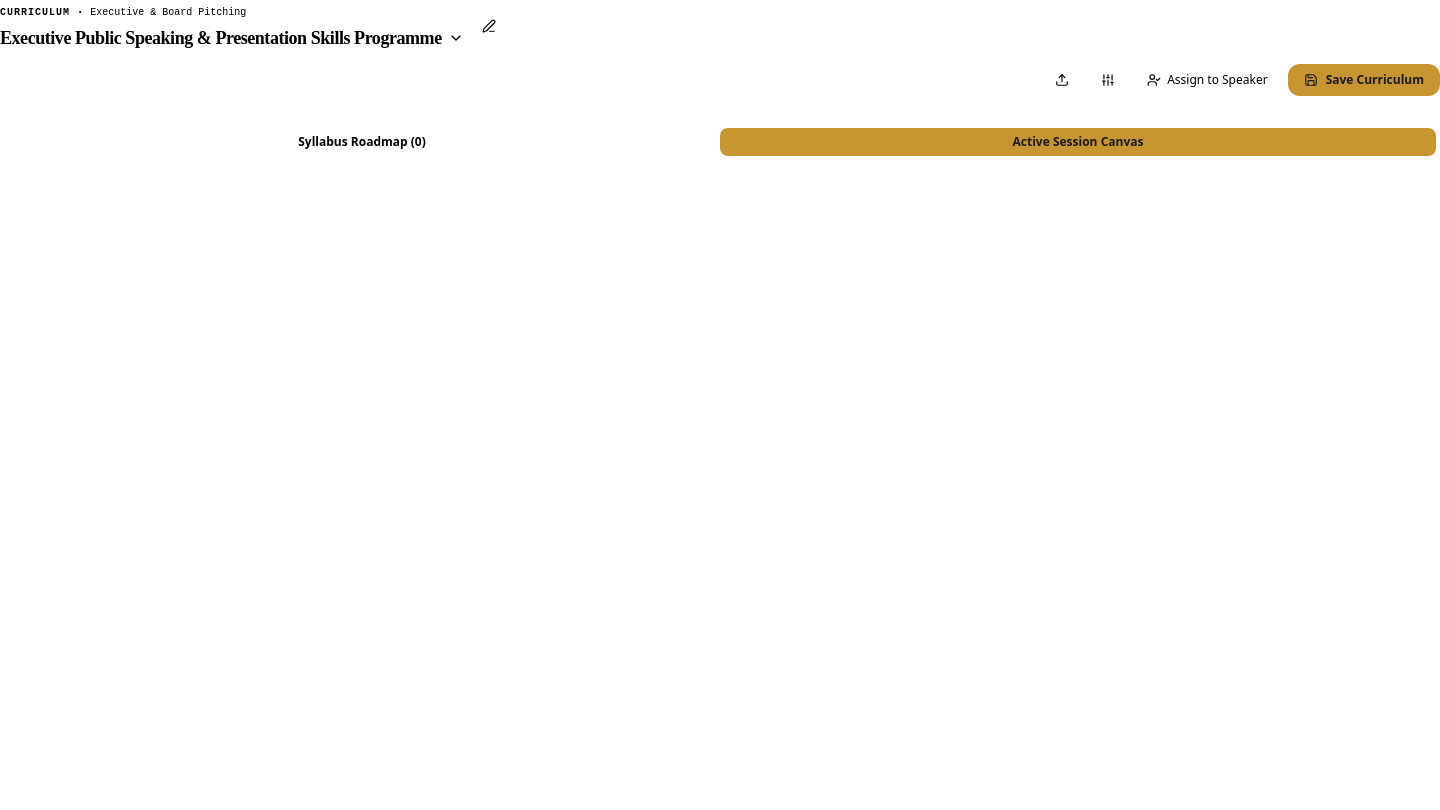
it: Global Orators Minimalist Split-View ProgramBuilder › opens settings modal to configure weeks, sessions per week, and tier
The width and height of the screenshot is (1440, 810).
Click the button named "Settings": (1108, 80) top-left (1089, 65), bottom-right (1127, 95)
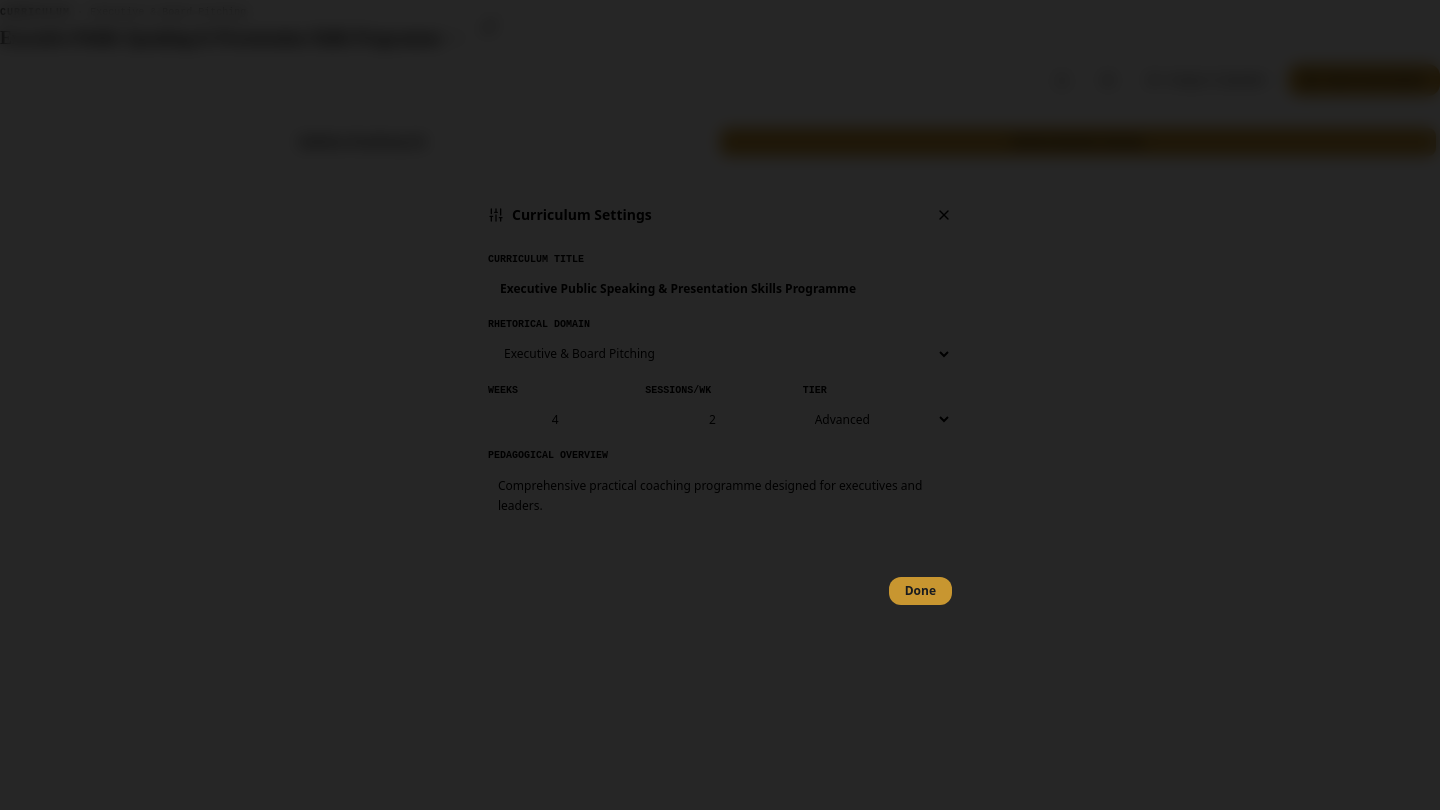
Now the heading "Curriculum Settings" is shown, box top-left (512, 205), bottom-right (652, 225)
Now the button "Done" is shown, box top-left (889, 577), bottom-right (952, 605)
